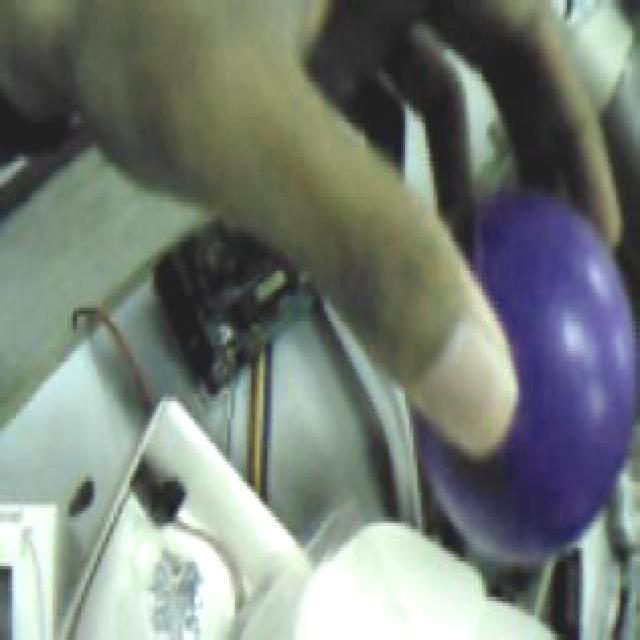BallPurple: (416, 194, 636, 562)
